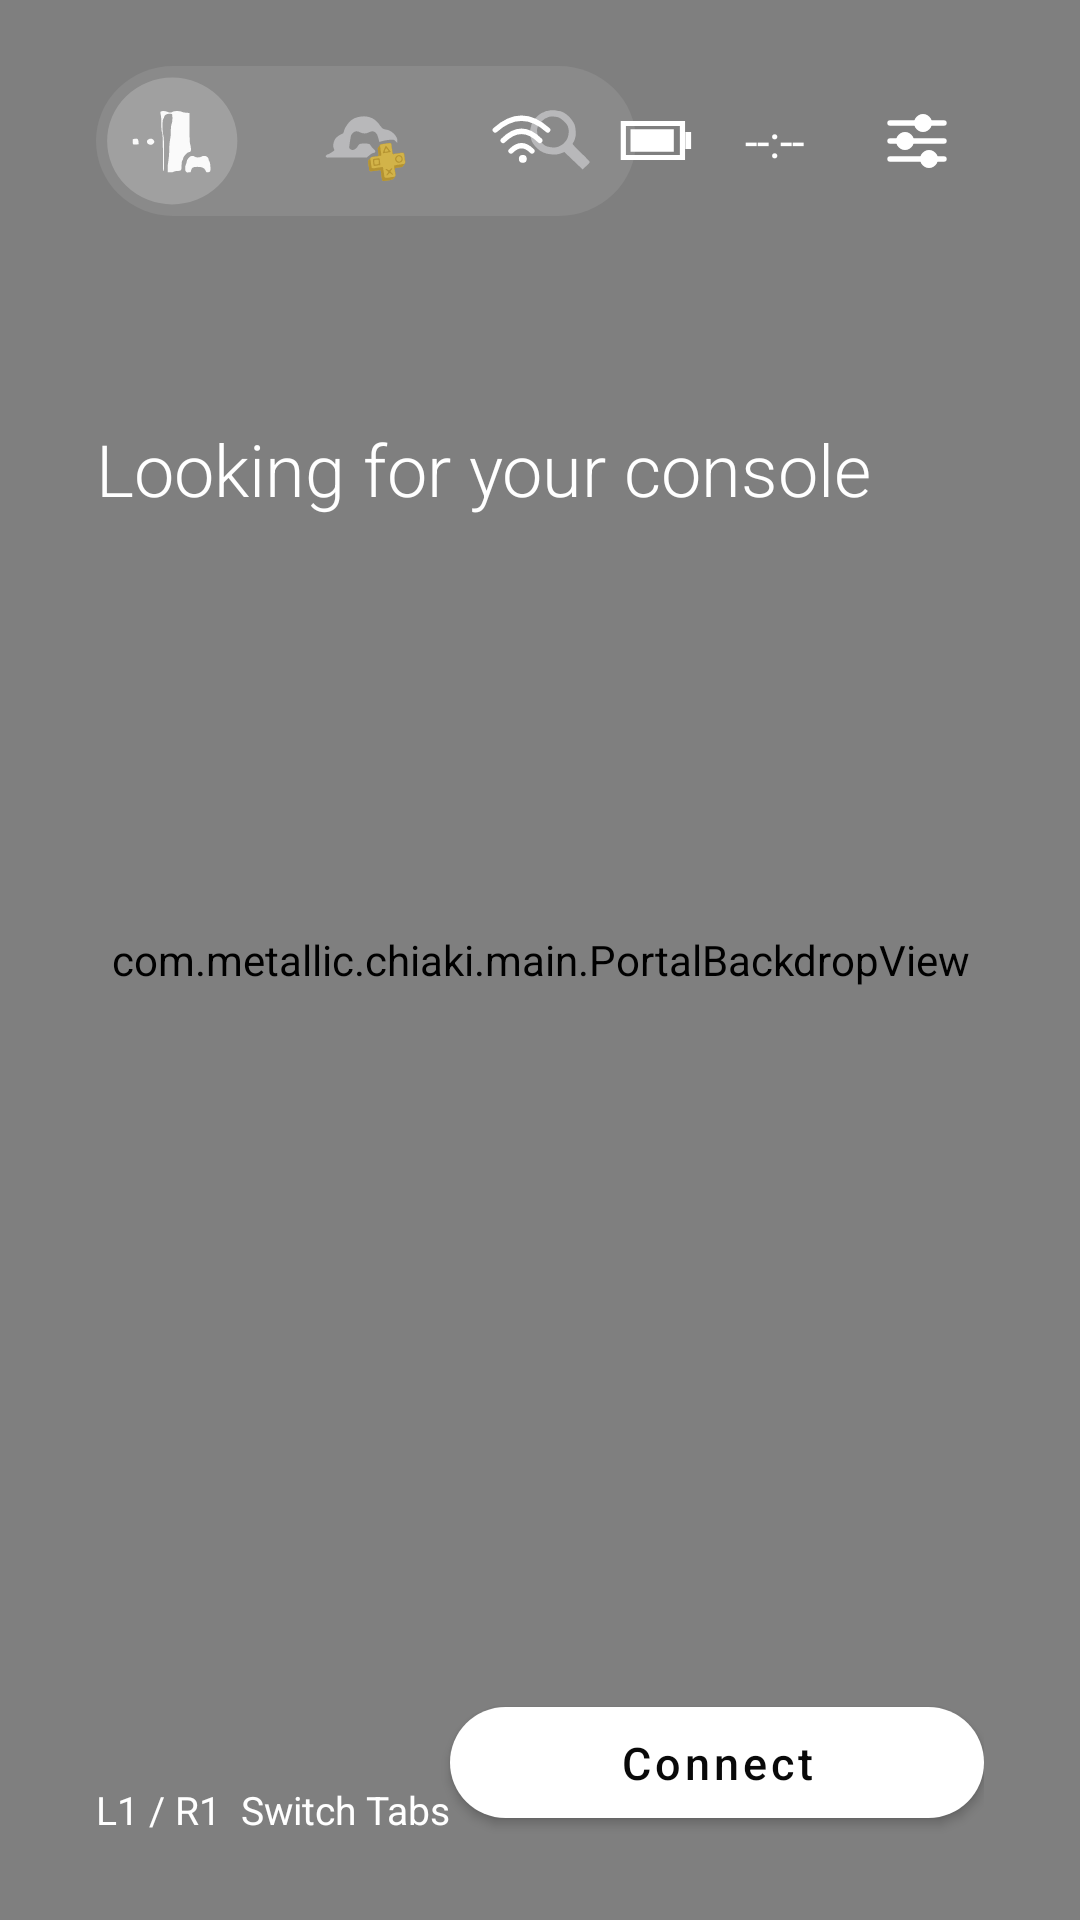

Where to tap for icons on this 1080 × 1920 app screen, as point (x, y):
Battery: point (655, 140)
Quick menu: point (917, 141)
